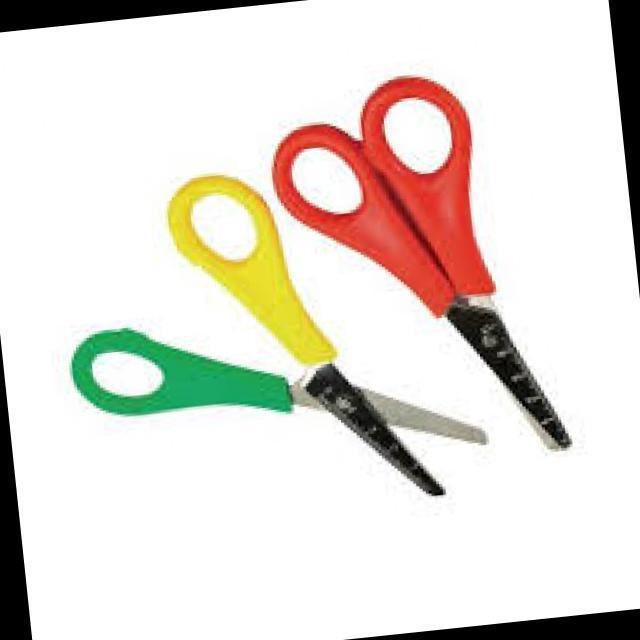scissors: (280, 38, 634, 499), (110, 100, 433, 544)
